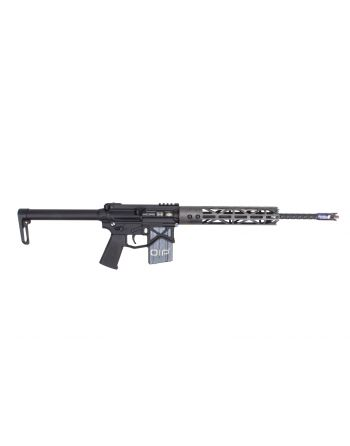Gun: (88, 197, 292, 239)
